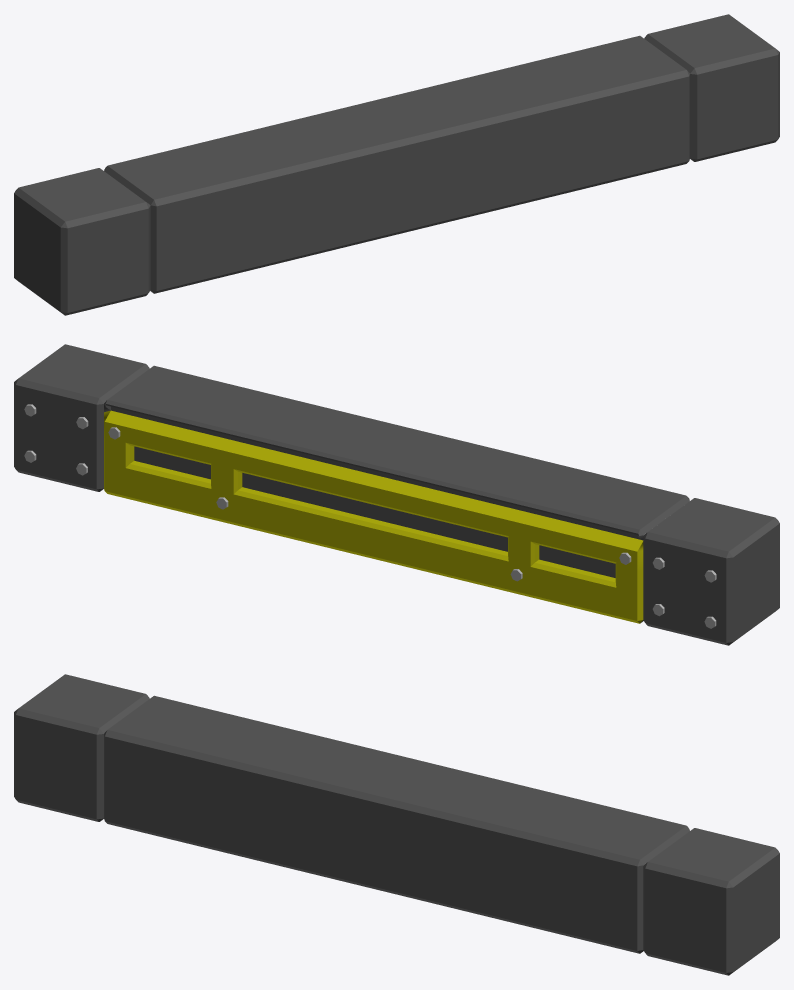
File: StairBeam.fbx
3 renders of one model, top to bottom at view 1: azimuth 30°, elevation 25°; view 2: azimuth 150°, elevation 25°; view 3: azimuth 330°, elevation 25°, orthographic.
Visible parts, largest first — view 1: StairBeam; view 2: StairBeam; view 3: StairBeam.
Boxes of the visible parts, box(x1,y1,x2,y2) form: StairBeam: box(14, 14, 779, 315); StairBeam: box(14, 344, 779, 645); StairBeam: box(14, 674, 779, 975).
Bounding box in the file's own units: 200 × 25.06 × 25.78.
